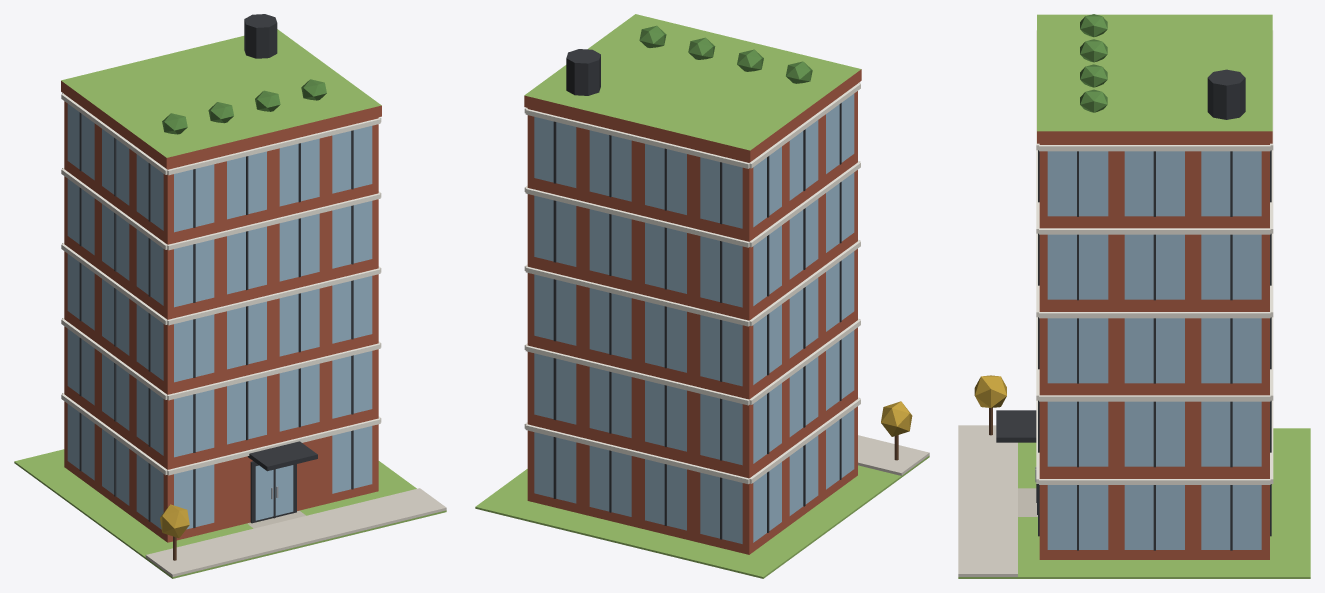
The model's file is Buro_tugla_cam_1_Hafif.fbx.
3 views of the same model, side by side, from view 1: azimuth 30°, elevation 25°; view 2: azimuth 150°, elevation 25°; view 3: azimuth 270°, elevation 25° (orthographic). The views are drawn at different scales.
Parts seen in each view (by area): view 1: Buro_tugla_cam_1_Hafif; view 2: Buro_tugla_cam_1_Hafif; view 3: Buro_tugla_cam_1_Hafif.
Boxes of the visible parts, <box> form: Buro_tugla_cam_1_Hafif: <box>14,14,446,578</box>; Buro_tugla_cam_1_Hafif: <box>475,14,929,578</box>; Buro_tugla_cam_1_Hafif: <box>958,14,1310,578</box>.
Bounding box in the file's own units: 13 × 19.02 × 13.
